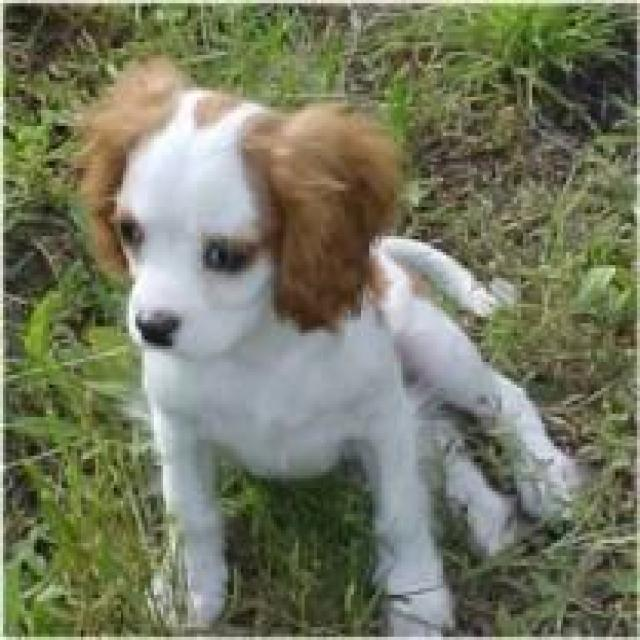blenheim_spaniel: (74, 51, 582, 636)
